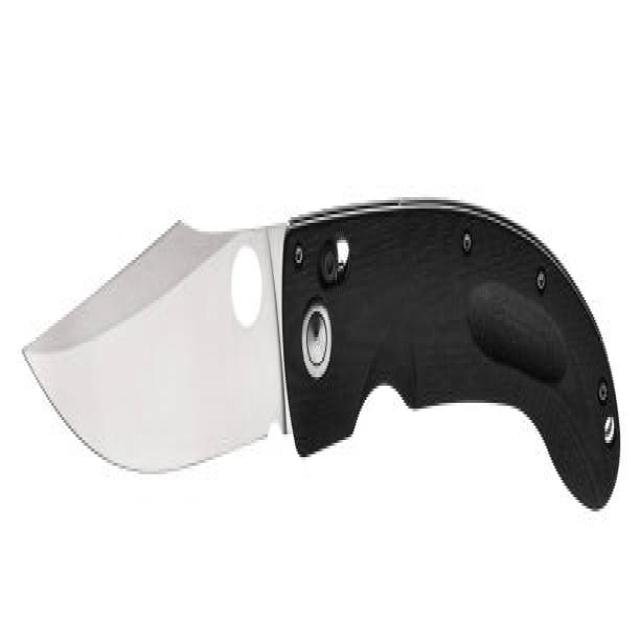knife: (14, 189, 622, 543)
